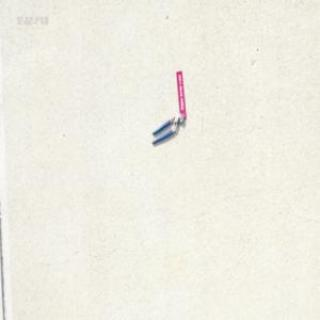LuggageTagtrack_idkeyframe: (175, 69, 186, 118)
Pliertrack_idkeyframe: (150, 112, 183, 144)
